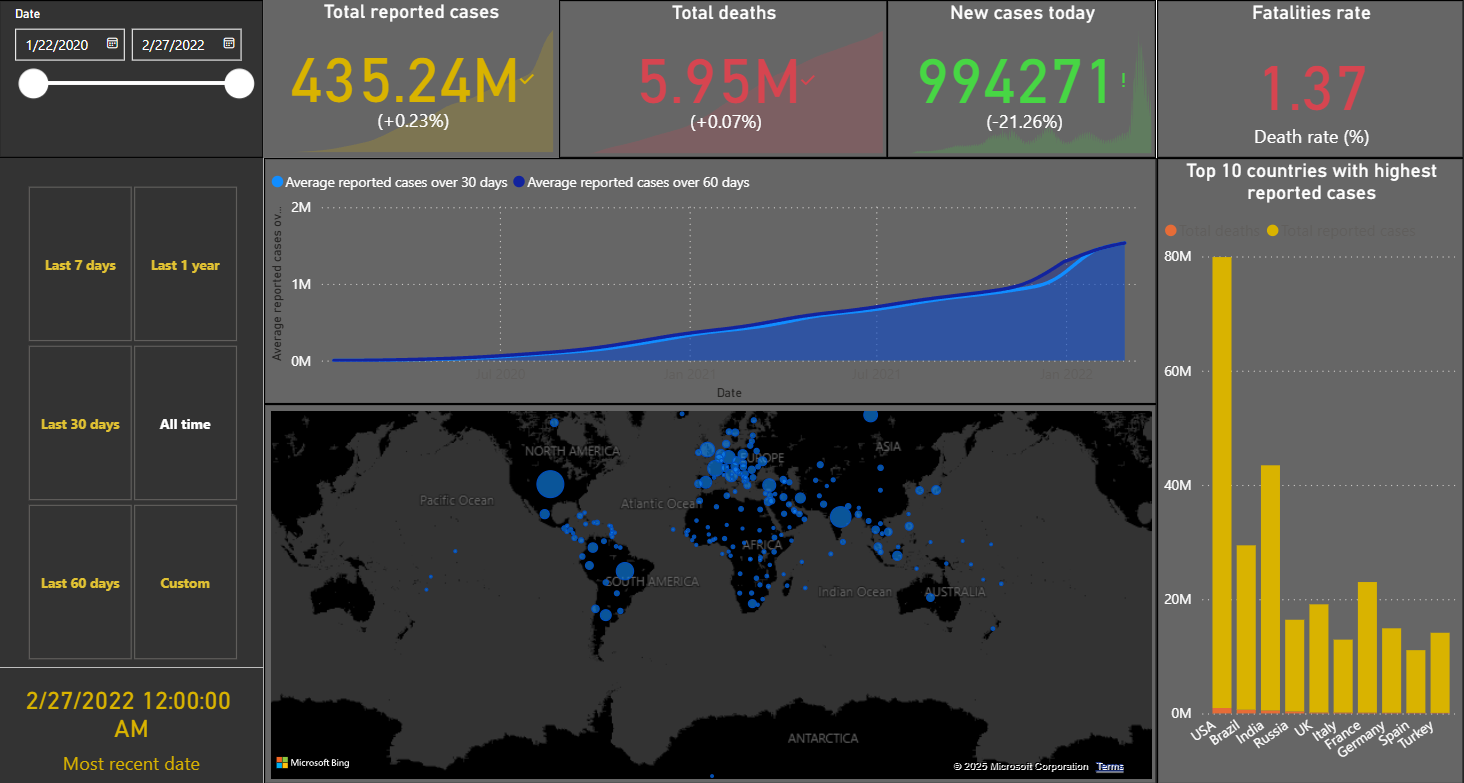

The dashboard page shown, as its layout file describes it:
{"tool":"powerbi","page":{"name":"World's covid 19 situation","canvas":[1280,720],"ordinal":0},"visuals":[{"type":"kpi","title":"Total reported cases","fields":{"Indicator":["Measure.Total reported cases"],"TrendLine":["Covid19.Date"],"Goal":["Measure.Yesterday total reported cases"]},"box":[231.5,35,257.8,138.1],"z":0},{"type":"kpi","title":"Total deaths ","fields":{"Indicator":["Measure.Total deaths"],"TrendLine":["Covid19.Date"],"Goal":["Measure.Yesterday total deaths"]},"box":[489.2,35,286.9,138.1],"z":1000},{"type":"kpi","title":"New cases today","fields":{"Indicator":["Measure.New cases"],"TrendLine":["Covid19.Date"],"Goal":["Measure.New cases yesterday"]},"box":[776.2,35,235.4,138.1],"z":2000},{"type":"areaChart","fields":{"Category":["Covid19.Date"],"Y":["Measure.Average reported cases over 30 days","Measure.Average reported cases over 60 days"]},"box":[231.5,173.1,780.1,215],"z":3000},{"type":"slicer","fields":{"Values":["Covid19.Date"]},"box":[0,35,231.5,138.1],"z":4000},{"type":"slicer","fields":{"Values":["Date period.Type"]},"box":[0,173.1,231.5,445.5],"z":5000},{"type":"columnChart","title":"Top 10 countries with highest reported cases","fields":{"Category":["Covid19.Country"],"Y":["Measure.Total deaths","Measure.Total reported cases"]},"box":[1011.6,173.1,268.4,546.6],"z":6000},{"type":"map","fields":{"Size":["Measure.Total reported cases"],"Category":["Covid19.Country"]},"box":[231.5,388.1,780.1,331.7],"z":7000},{"type":"card","title":"Fatalities rate","fields":{"Values":["Measure.Death rate"]},"box":[1011.6,35,268.4,138.1],"z":8000},{"type":"card","fields":{"Values":["Measure.Most recent date"]},"box":[0,618.6,231.5,101.2],"z":9000}]}

Visuals, with their boxes in screenshot pixels (x1, y1, x2, y2):
"Total reported cases" kpi: <bbox>259, 0, 555, 157</bbox>
"Total deaths " kpi: <bbox>555, 0, 885, 157</bbox>
"New cases today" kpi: <bbox>885, 0, 1156, 157</bbox>
areaChart - Covid19.Date x Measure.Average reported cases over 30 days: <bbox>259, 157, 1156, 405</bbox>
slicer - Covid19.Date: <bbox>0, 0, 259, 157</bbox>
slicer - Date period.Type: <bbox>0, 157, 259, 670</bbox>
"Top 10 countries with highest reported cases" columnChart: <bbox>1156, 157, 1463, 782</bbox>
map - Measure.Total reported cases x Covid19.Country: <bbox>259, 405, 1156, 782</bbox>
"Fatalities rate" card: <bbox>1156, 0, 1463, 157</bbox>
card - Measure.Most recent date: <bbox>0, 670, 259, 782</bbox>
